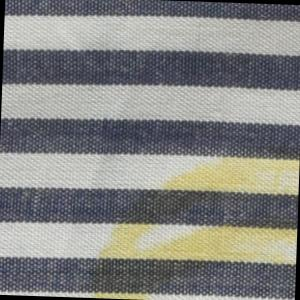Stain: (93, 140, 300, 300)
